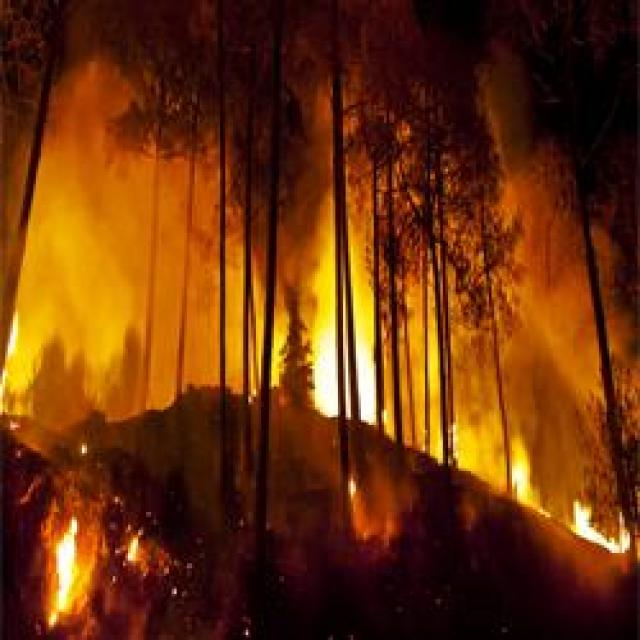fire: (52, 528, 82, 616), (577, 518, 632, 556), (312, 332, 338, 410), (358, 353, 374, 421), (511, 466, 531, 494)
smoke: (44, 162, 148, 272), (526, 272, 590, 396), (29, 256, 142, 316), (59, 71, 102, 185), (493, 80, 527, 176), (306, 201, 334, 316), (454, 405, 498, 473), (508, 402, 542, 456)
